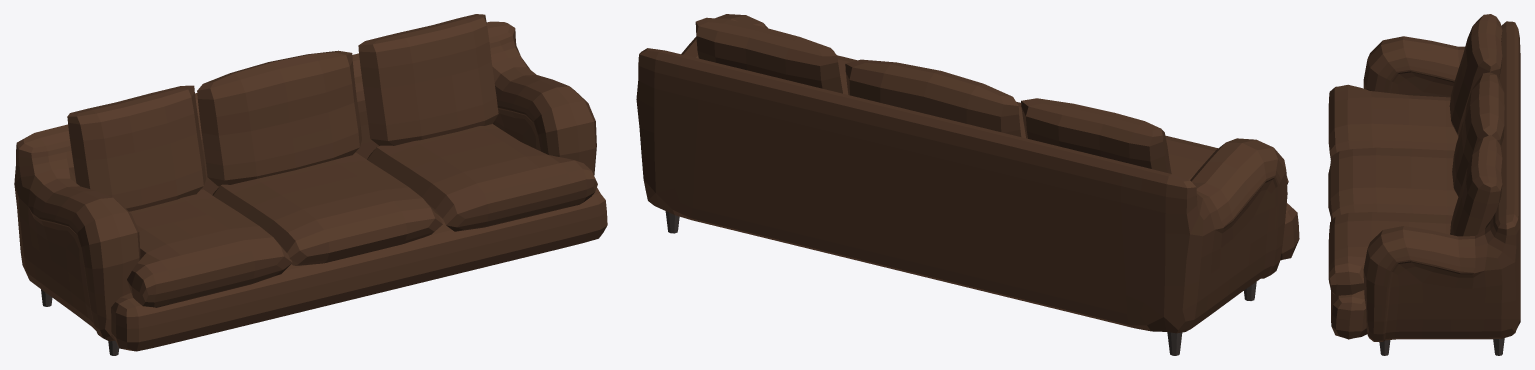
Rendered from F_Sofa2.glb.
3 views of the same model, side by side, from view 1: azimuth 30°, elevation 25°; view 2: azimuth 150°, elevation 25°; view 3: azimuth 270°, elevation 25° (orthographic). The views are drawn at different scales.
Visible parts, largest first — view 1: Sofa2_Cube.006; view 2: Sofa2_Cube.006; view 3: Sofa2_Cube.006.
Boxes of the visible parts, left/top/right/bottom form: Sofa2_Cube.006: left=14, top=14, right=607, bottom=355; Sofa2_Cube.006: left=636, top=14, right=1299, bottom=355; Sofa2_Cube.006: left=1328, top=14, right=1520, bottom=355.
Bounding box in the file's own units: 4 × 1.45 × 1.54.
